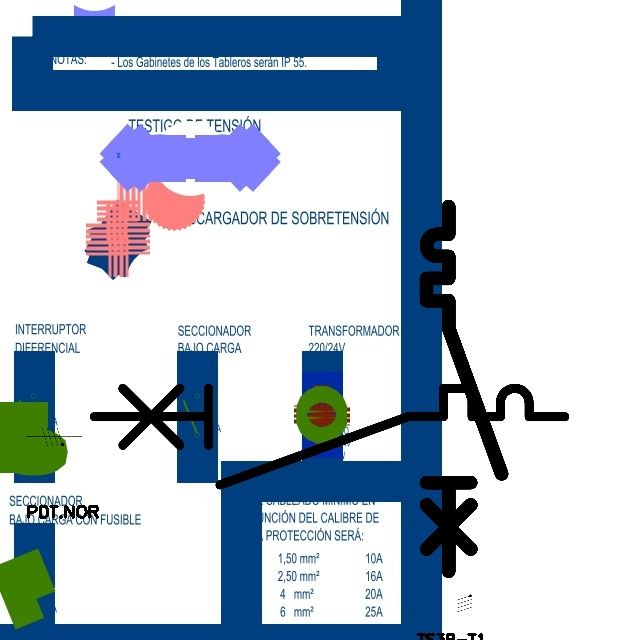interruptor_termomagnetico: (82, 376, 577, 497), (417, 197, 511, 580)
